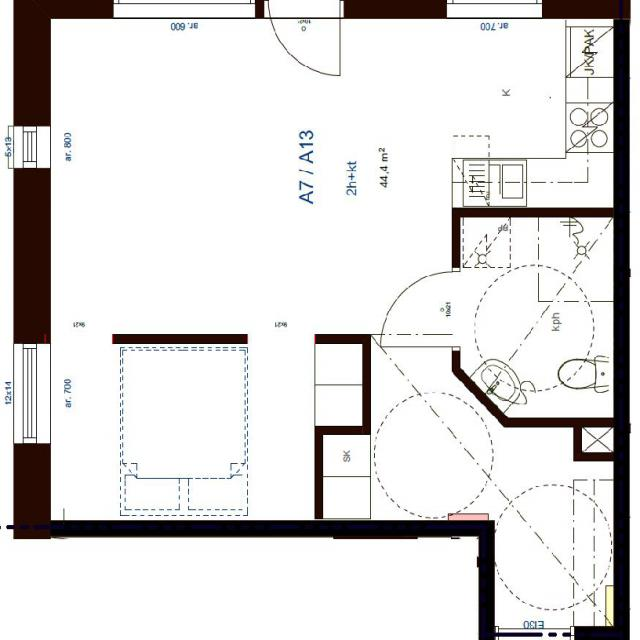door: (270, 0, 340, 91), (380, 272, 460, 347)
